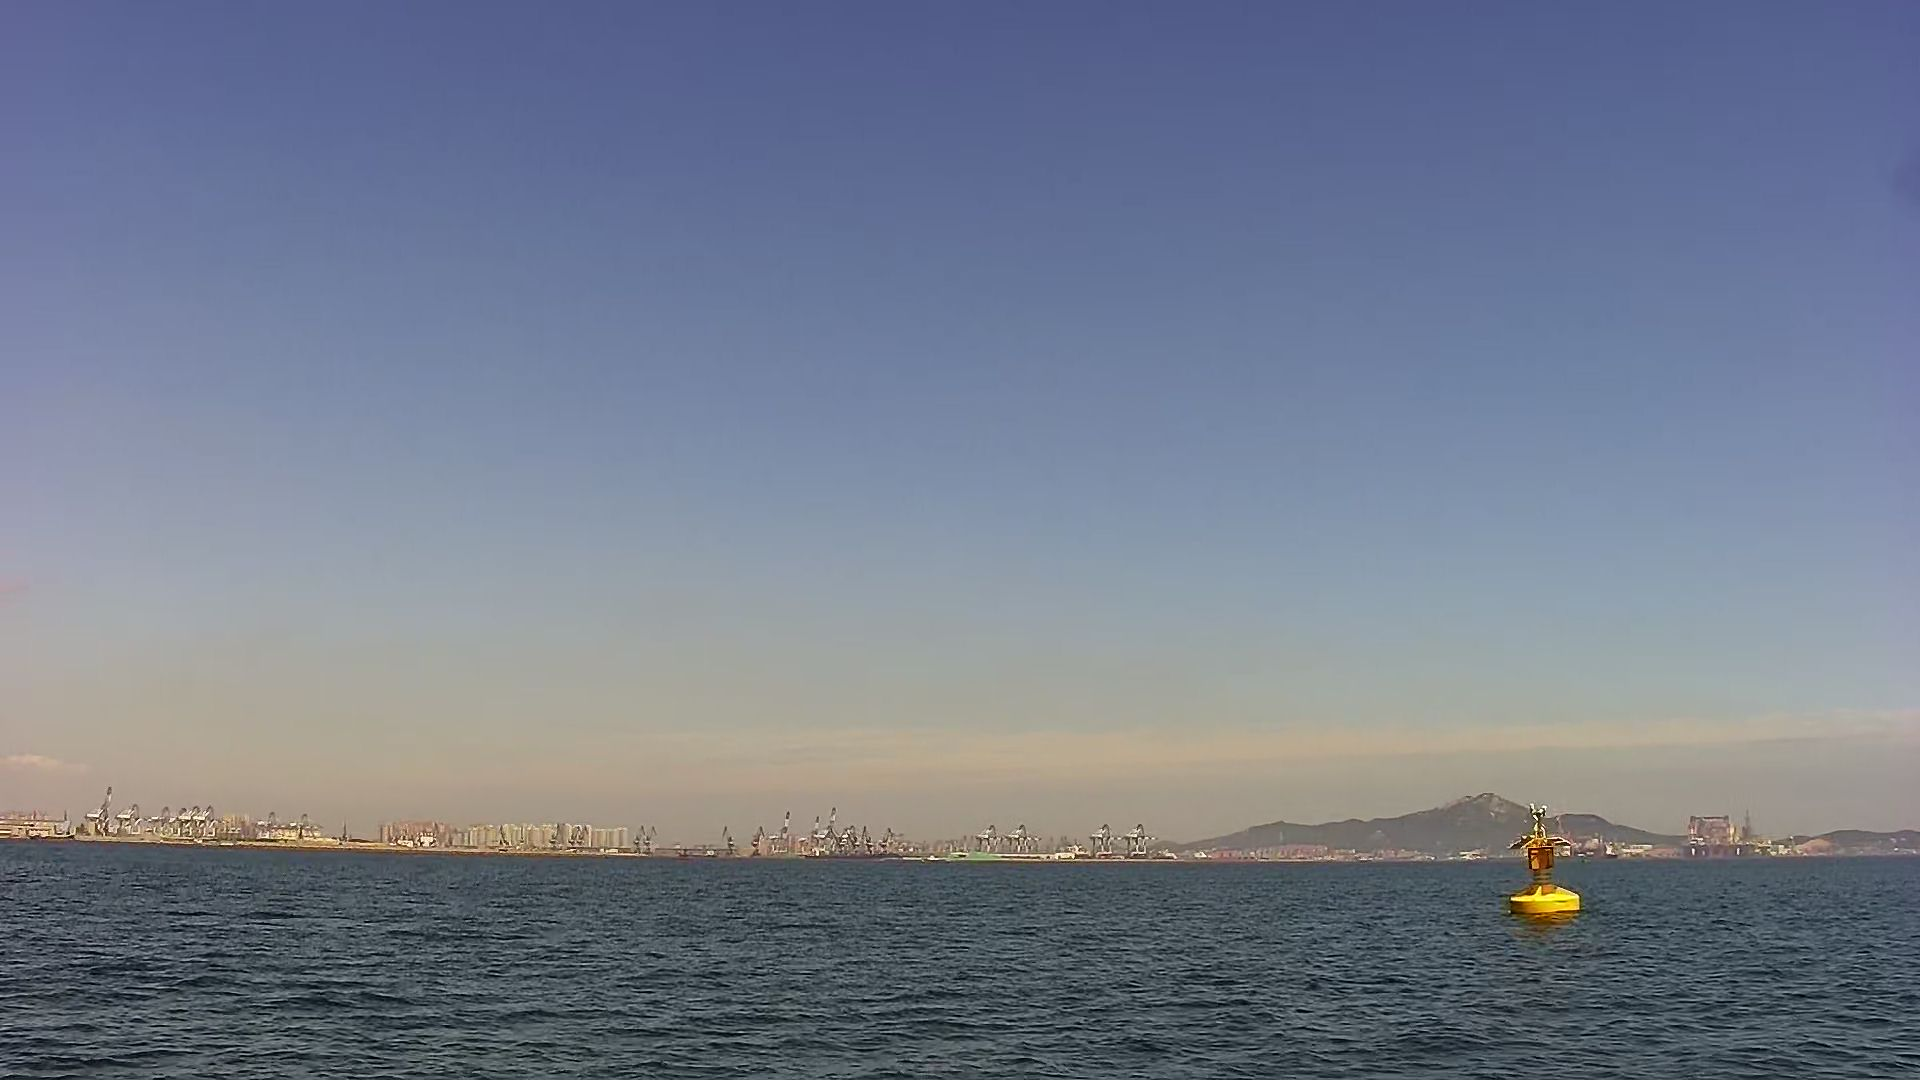buoy: (1507, 811, 1582, 915)
